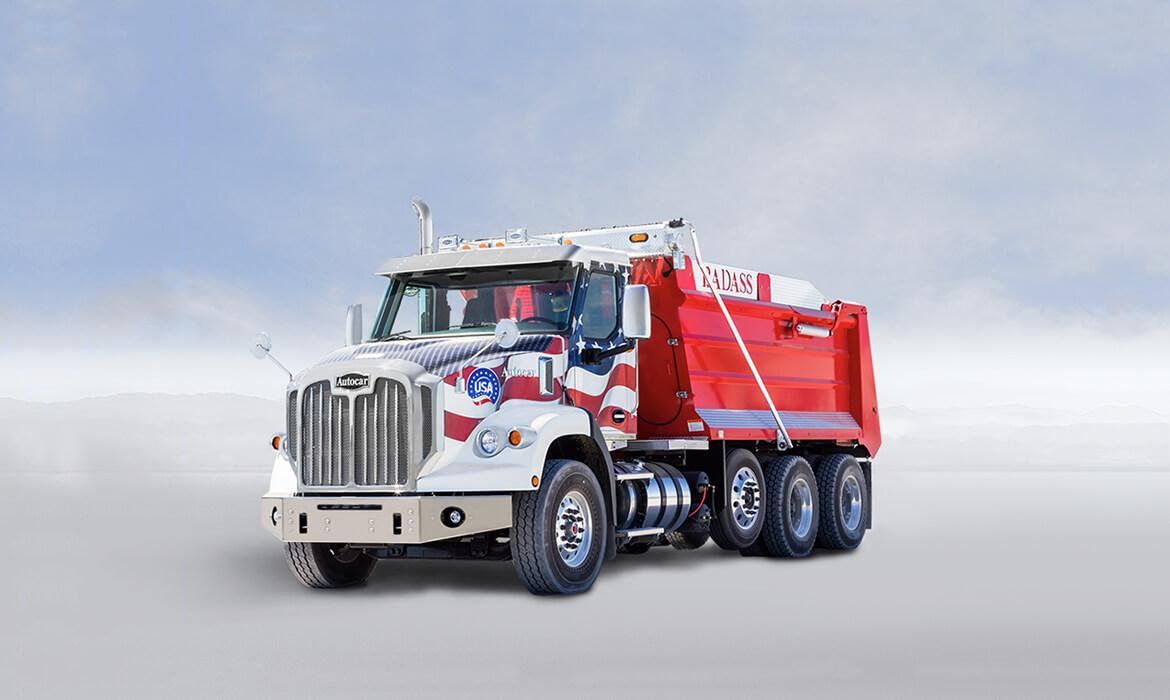truck: (251, 218, 878, 597)
